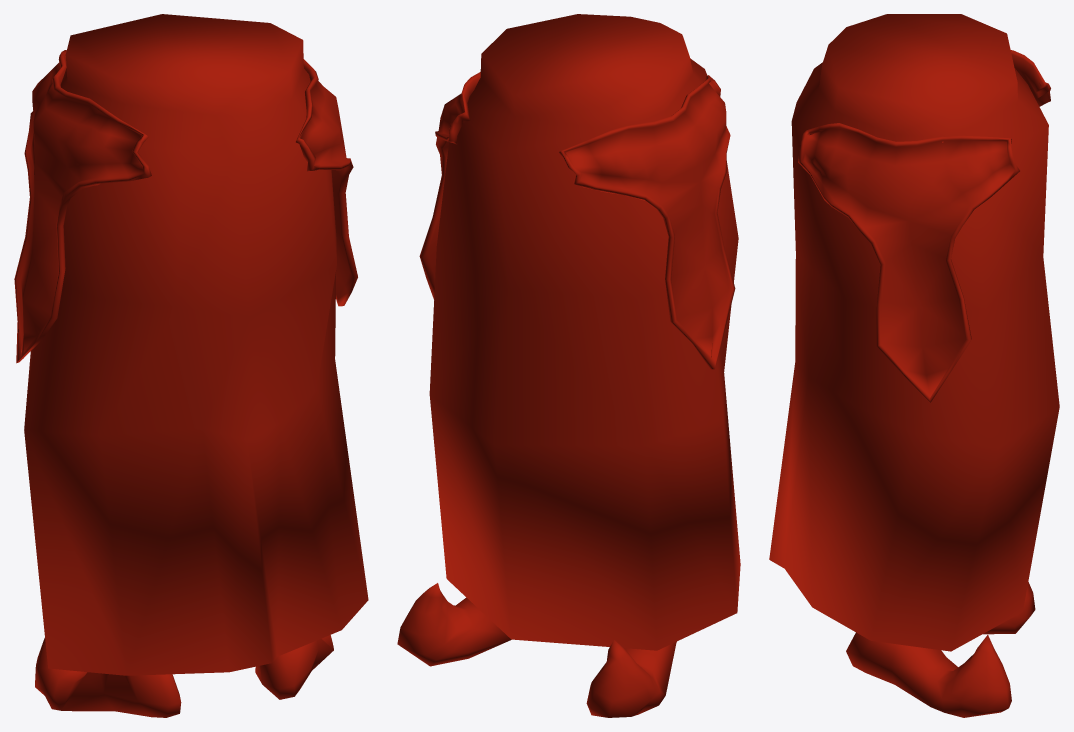
File: bot_000179.obj
3 renders of one model, left to right at view 1: azimuth 30°, elevation 25°; view 2: azimuth 150°, elevation 25°; view 3: azimuth 270°, elevation 25°, orthographic. The views are drawn at different scales.
Parts seen in each view (by area): view 1: LowPoly_Warlock.004_Plane.004; view 2: LowPoly_Warlock.004_Plane.004; view 3: LowPoly_Warlock.004_Plane.004.
Part boxes in pixels (box(x1,y1,x2,y2)): LowPoly_Warlock.004_Plane.004: box(14, 14, 368, 717); LowPoly_Warlock.004_Plane.004: box(397, 14, 740, 717); LowPoly_Warlock.004_Plane.004: box(769, 14, 1059, 717).
Bounding box in the file's own units: 0.566 × 1.13 × 0.4917.
